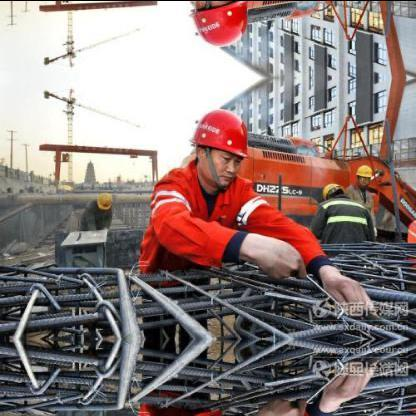Helmet: (184, 100, 252, 190), (183, 0, 254, 53), (317, 178, 343, 198), (354, 162, 372, 184), (94, 188, 112, 207)
